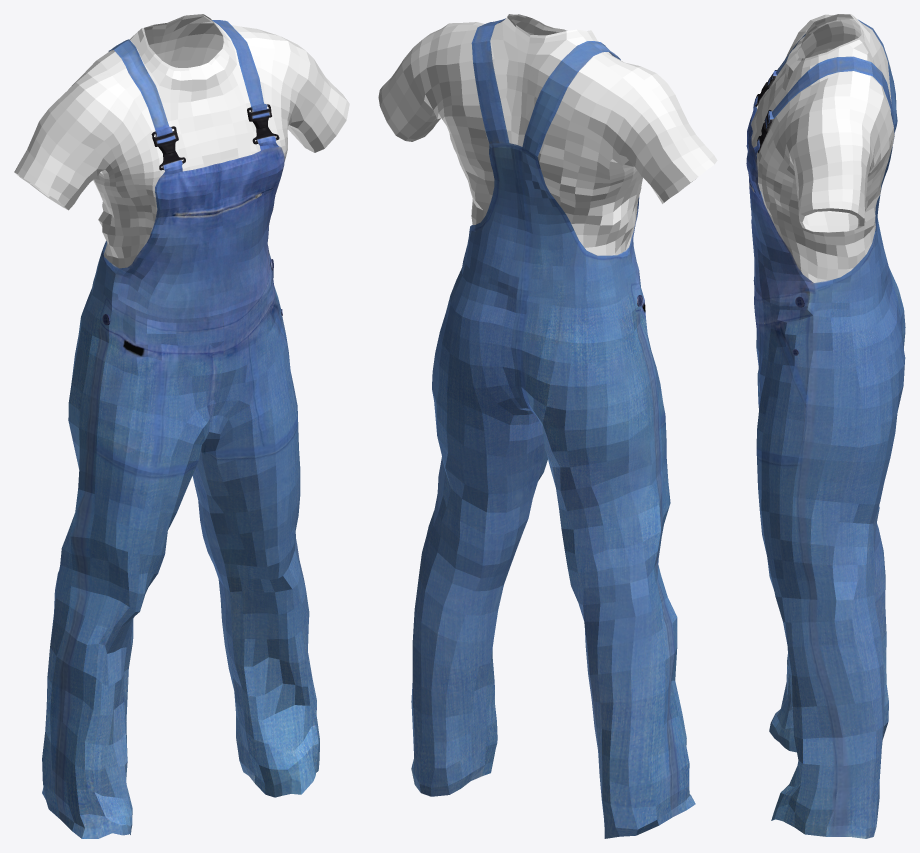
File: garment.glb
3 views of the same model, side by side, from view 1: azimuth 30°, elevation 25°; view 2: azimuth 150°, elevation 25°; view 3: azimuth 270°, elevation 25° (orthographic). The views are drawn at different scales.
Visible parts, largest first — view 1: garment; view 2: garment; view 3: garment.
Boxes of the visible parts, x1,y1,x2,y2 form: garment: (14,14,349,838); garment: (378,14,717,838); garment: (746,14,905,838).
Bounding box in the file's own units: 6.07 × 13.96 × 2.64.
1 material, 1 textured.
